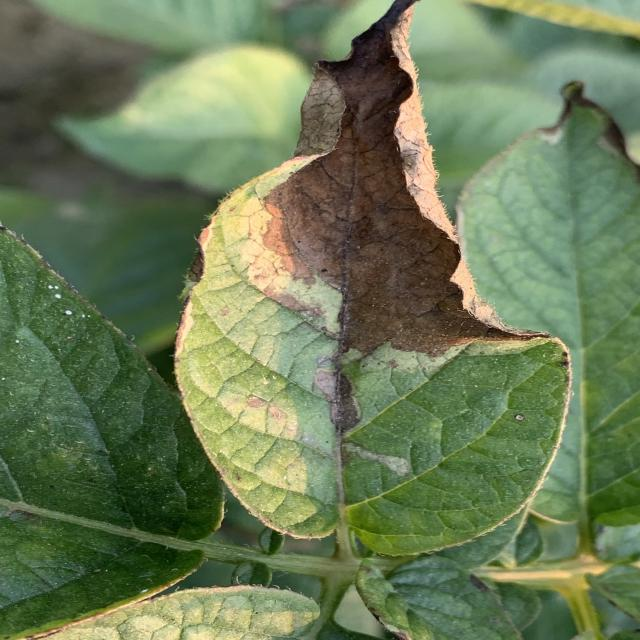lateblight: (245, 0, 540, 435)
